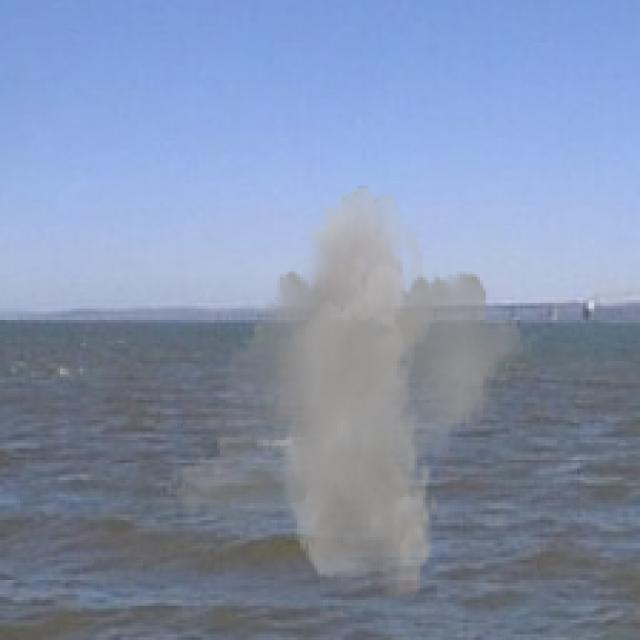smoke: (163, 186, 534, 600)
